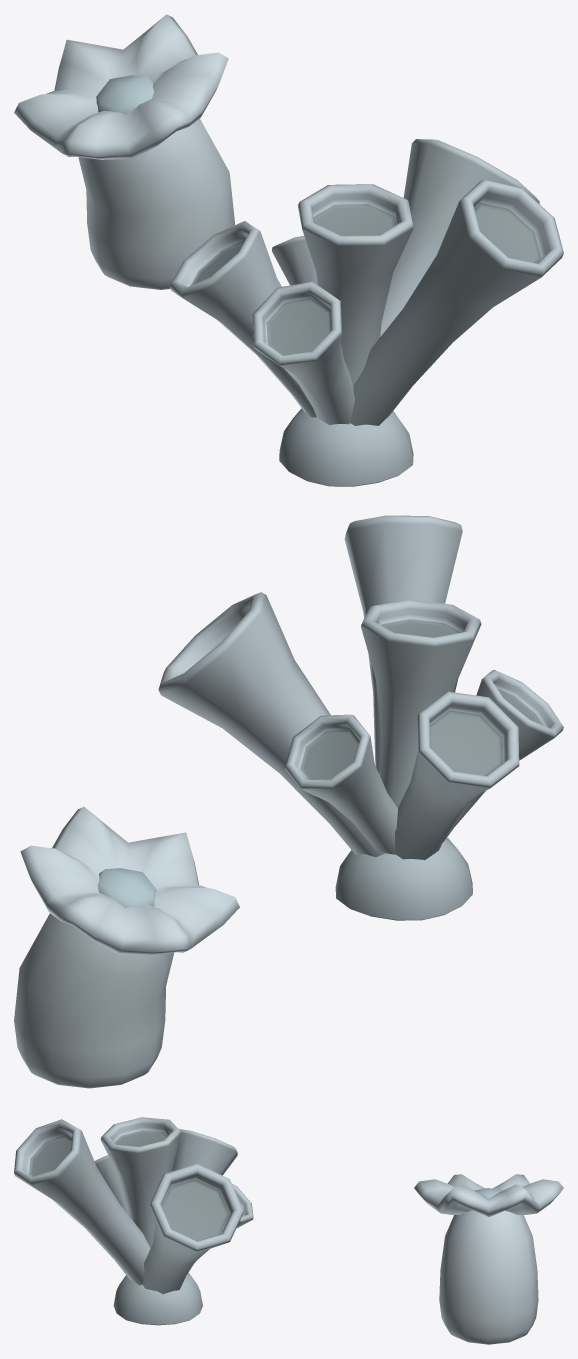
The model's file is Coral.fbx.
The picture shows the model from 3 angles, top to bottom: view 1: azimuth 30°, elevation 25°; view 2: azimuth 150°, elevation 25°; view 3: azimuth 270°, elevation 25°; orthographic projection. The views are drawn at different scales.
Visible parts, largest first — view 1: CoralLong, CoralFat; view 2: CoralLong, CoralFat; view 3: CoralLong, CoralFat.
Boxes of the visible parts, x1,y1,x2,y2 form: CoralLong: (169,139,563,486); CoralFat: (14,14,234,289); CoralLong: (158,515,563,920); CoralFat: (14,807,239,1088); CoralLong: (14,1117,253,1325); CoralFat: (414,1174,563,1344).
Size of the model in its own units: 77.69 by 65.55 by 160.
